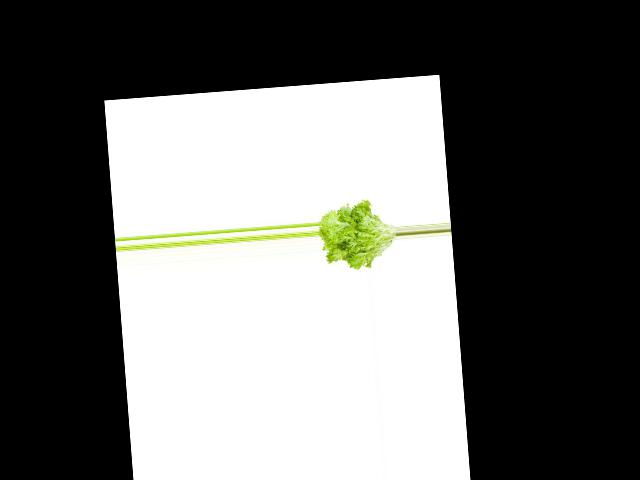lettuce: (317, 197, 400, 275)
